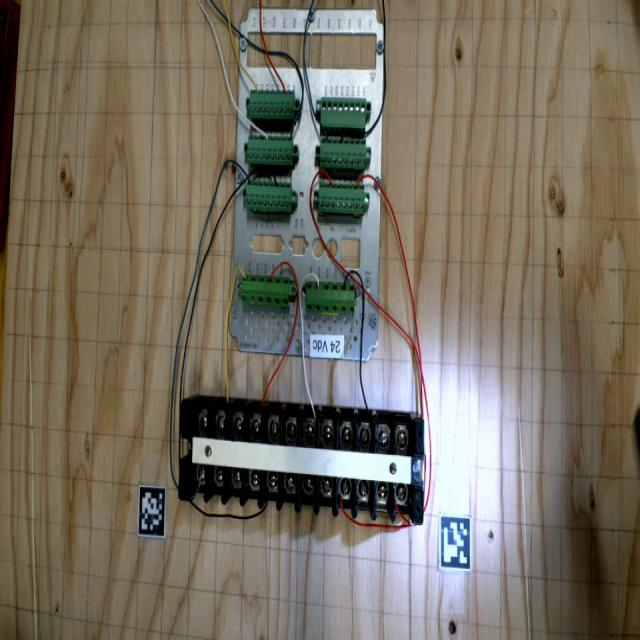Flathead_Block: (172, 394, 433, 524)
Terminal_1: (240, 274, 290, 308), (306, 281, 355, 315)
Terminal_2: (245, 179, 293, 212), (317, 182, 366, 214), (319, 137, 367, 169), (246, 135, 293, 165), (249, 90, 294, 119)
